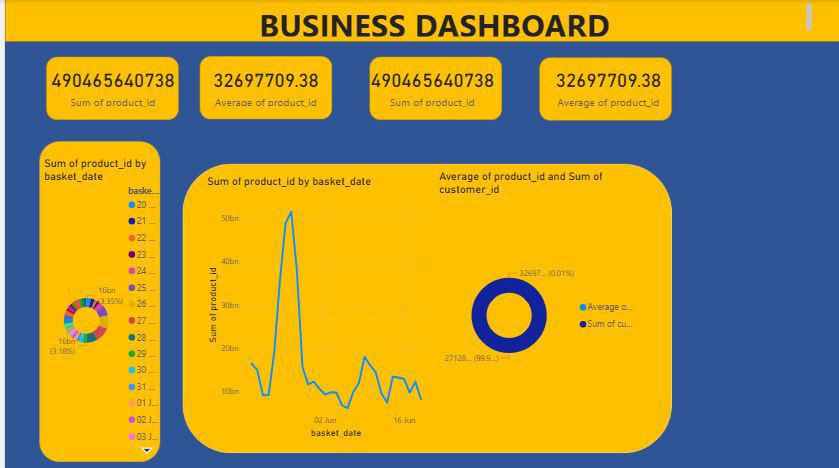

Layout of this report page (visuals, bound fields, positions):
{"tool":"powerbi","page":{"name":"Page 1","canvas":[1280,720],"ordinal":0},"visuals":[{"type":"lineChart","fields":{"Category":["basket_details.basket_date"],"Y":["Sum(basket_details.product_id)"]},"box":[304.7,267.9,355.2,407.3],"z":0},{"type":"donutChart","fields":{"Y":["Avg(basket_details.product_id)","Sum(basket_details.customer_id)"]},"box":[659.9,260.3,316.9,407.3],"z":1000},{"type":"card","fields":{"Values":["Sum(basket_details.product_id)"]},"box":[55.1,94.9,220.5,73.5],"z":2000},{"type":"donutChart","fields":{"Category":["basket_details.basket_date"],"Y":["Sum(basket_details.product_id)"]},"box":[55.1,240.4,194.4,462.4],"z":3000},{"type":"card","fields":{"Values":["Avg(basket_details.product_id)"]},"box":[304.7,94.9,189.9,73.5],"z":3001},{"type":"card","fields":{"Values":["Avg(basket_details.product_id)"]},"box":[831.4,87.3,185.3,88.8],"z":3002},{"type":"card","fields":{"Values":["Sum(basket_details.product_id)"]},"box":[548.1,94.9,212.8,73.5],"z":3003},{"type":"textbox","box":[55.1,0,1185.1,61.2],"z":3004}]}

Visuals, with their boxes in screenshot pixels (x1, y1, x2, y2), scaled from the page's 1280x720 canvas onto the 839x468 screenshot:
lineChart - basket_details.basket_date x Sum(basket_details.product_id): box(200, 174, 433, 439)
donutChart - Avg(basket_details.product_id) x Sum(basket_details.customer_id): box(433, 169, 640, 434)
card - Sum(basket_details.product_id): box(36, 62, 181, 109)
donutChart - basket_details.basket_date x Sum(basket_details.product_id): box(36, 156, 164, 457)
card - Avg(basket_details.product_id): box(200, 62, 324, 109)
card - Avg(basket_details.product_id): box(545, 57, 666, 114)
card - Sum(basket_details.product_id): box(359, 62, 499, 109)
textbox: box(36, 0, 813, 40)
